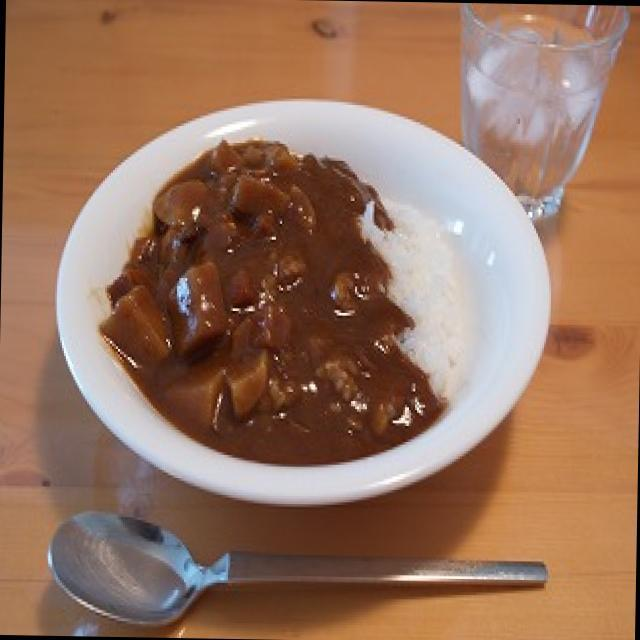Beef Curry: (108, 126, 478, 461)
